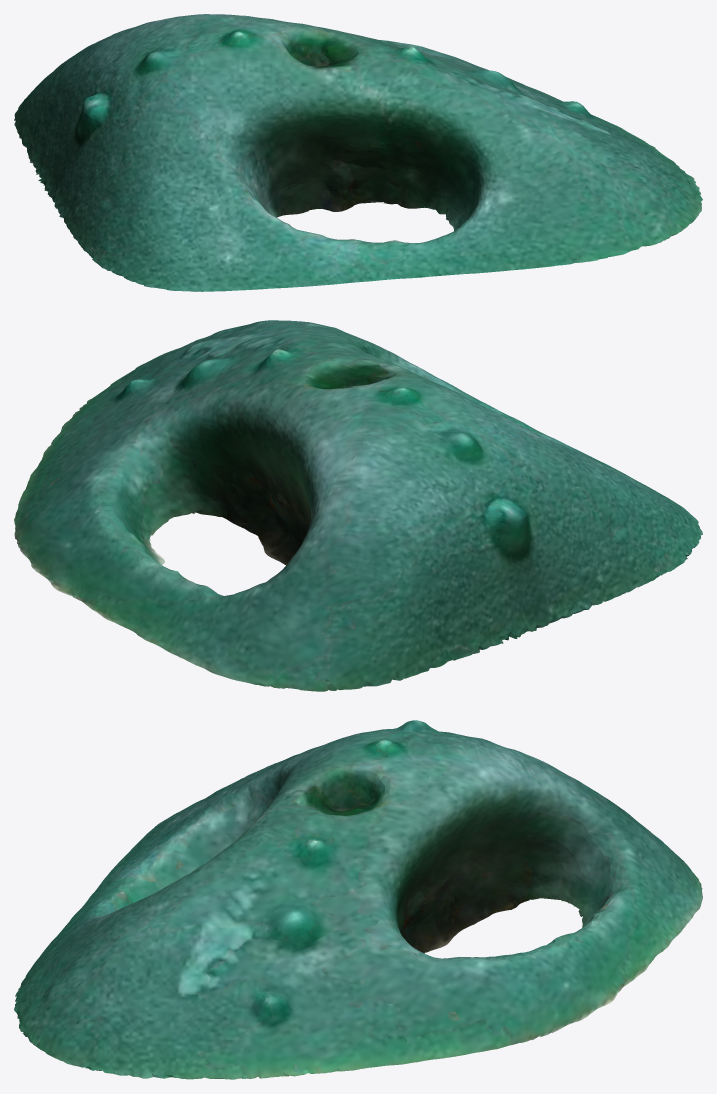
File: pinch.glb
3 renders of one model, top to bottom at view 1: azimuth 30°, elevation 25°; view 2: azimuth 150°, elevation 25°; view 3: azimuth 270°, elevation 25°, orthographic. The views are drawn at different scales.
Visible parts, largest first — view 1: entity_2; view 2: entity_2; view 3: entity_2.
Part boxes in pixels (box(x1,y1,x2,y2)): entity_2: box(14, 14, 702, 291); entity_2: box(14, 320, 702, 691); entity_2: box(14, 720, 702, 1079).
Bounding box in the file's own units: 0.8772 × 0.229 × 0.9059.
4 materials, 3 textured.
